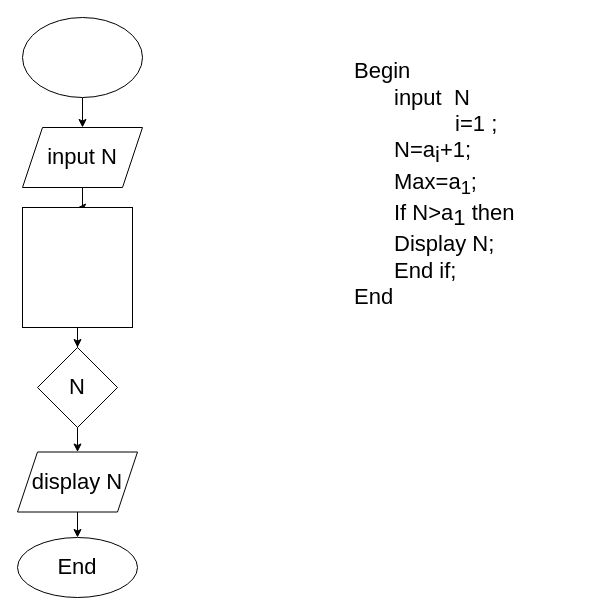
The diagram is 610 pixels wide and 615 high, and some of its shapes have lost their labels. The centre of each missing label's shape, as x and y in pixels:
"Begin" goes at point (82, 57).
"i=1 N=a i +1 Max=a 1" goes at point (77, 267).
